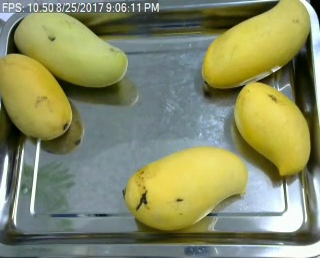Mango: (120, 146, 248, 233), (10, 9, 130, 90), (201, 0, 310, 88), (231, 82, 313, 177), (0, 53, 72, 142)
